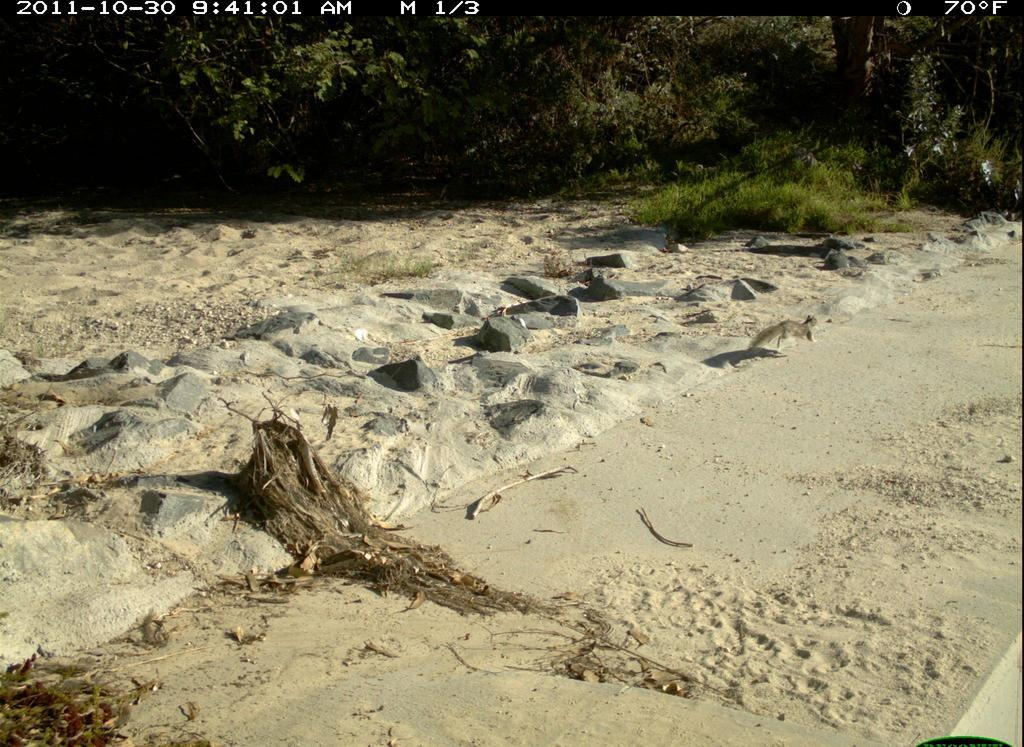squirrel: (748, 305, 829, 363)
